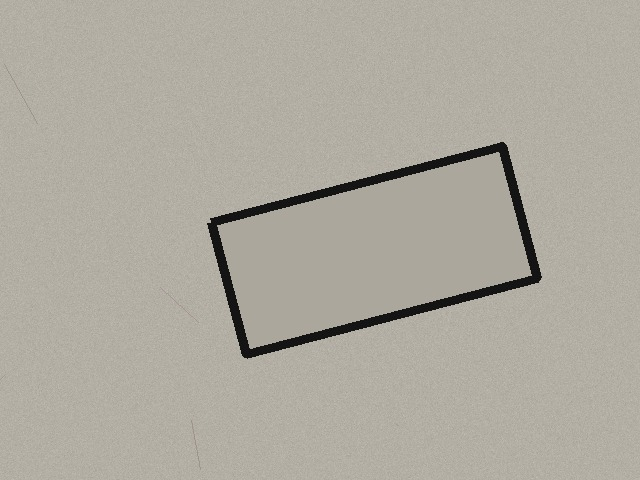parking_area: (211, 146, 537, 354)
